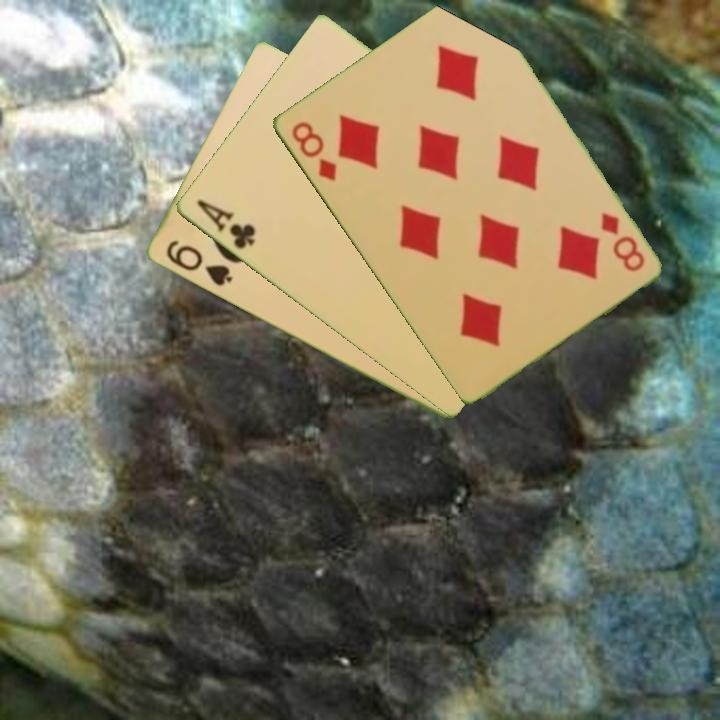6s: (162, 236, 235, 289)
8d: (287, 117, 340, 184), (596, 208, 647, 275)
Ac: (192, 196, 258, 252)
